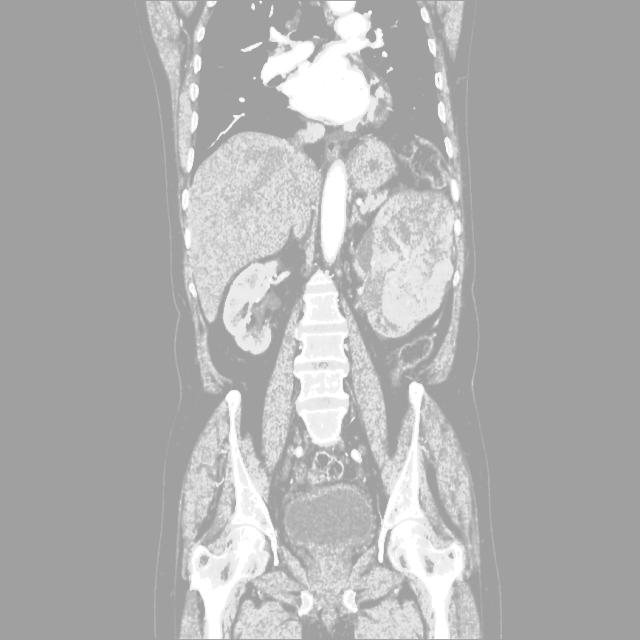TUMOR: (130, 157, 489, 367)
